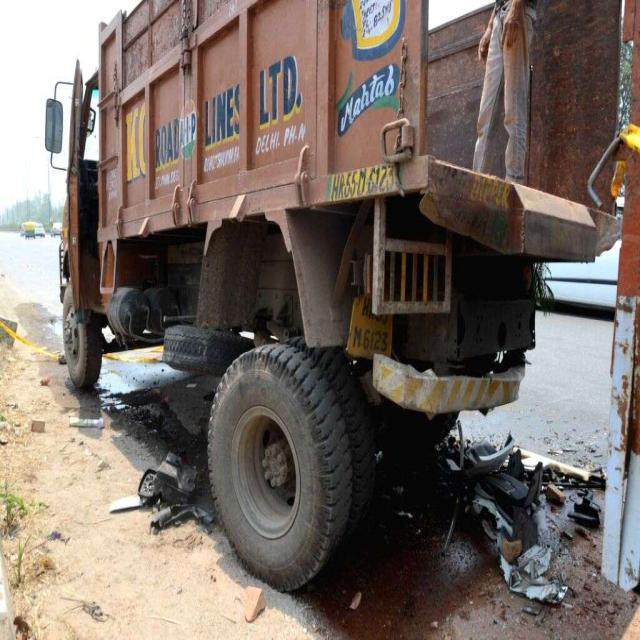accident: (45, 0, 640, 590)
